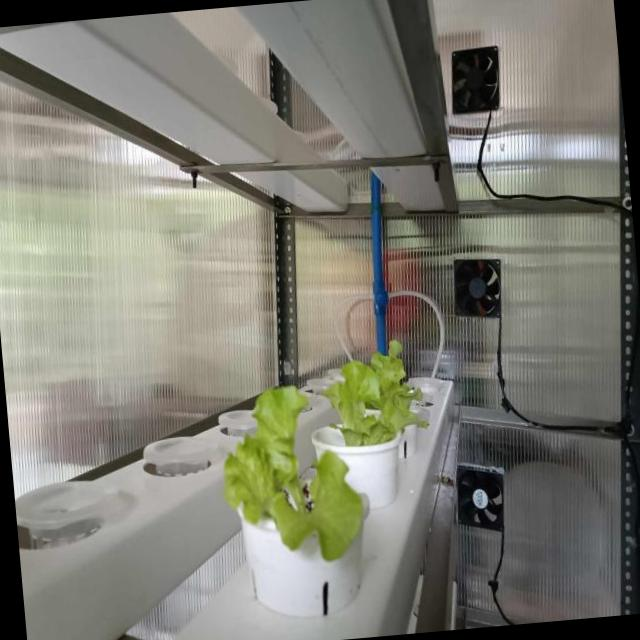Lettuce-Not-Ready-to-Harvest: (225, 385, 370, 562), (316, 360, 429, 446), (369, 340, 406, 398)
